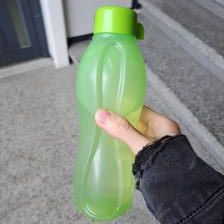bottle: (68, 3, 150, 221)
